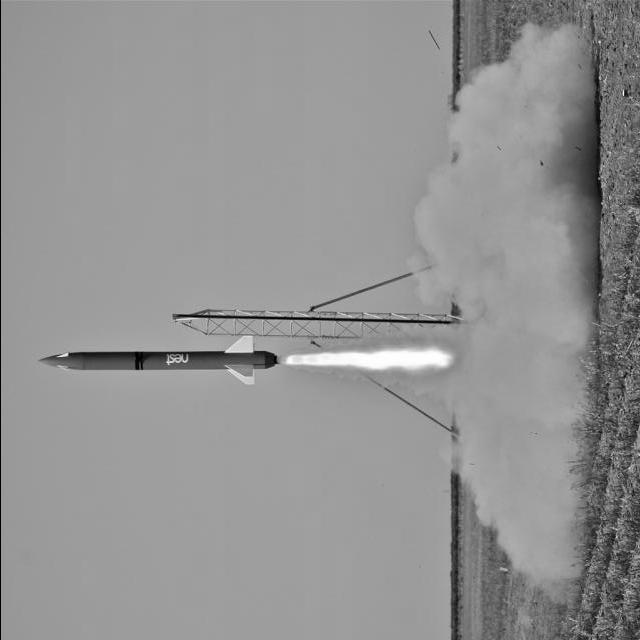missile: (36, 337, 298, 385)
